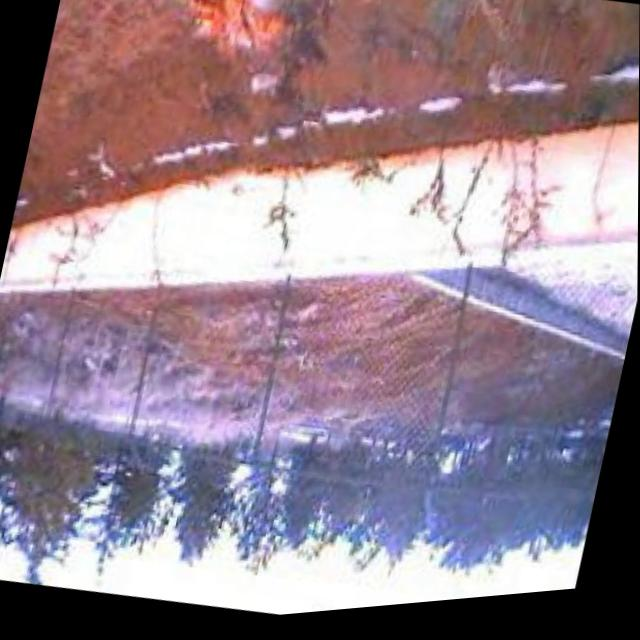Fire: (163, 0, 305, 81)
